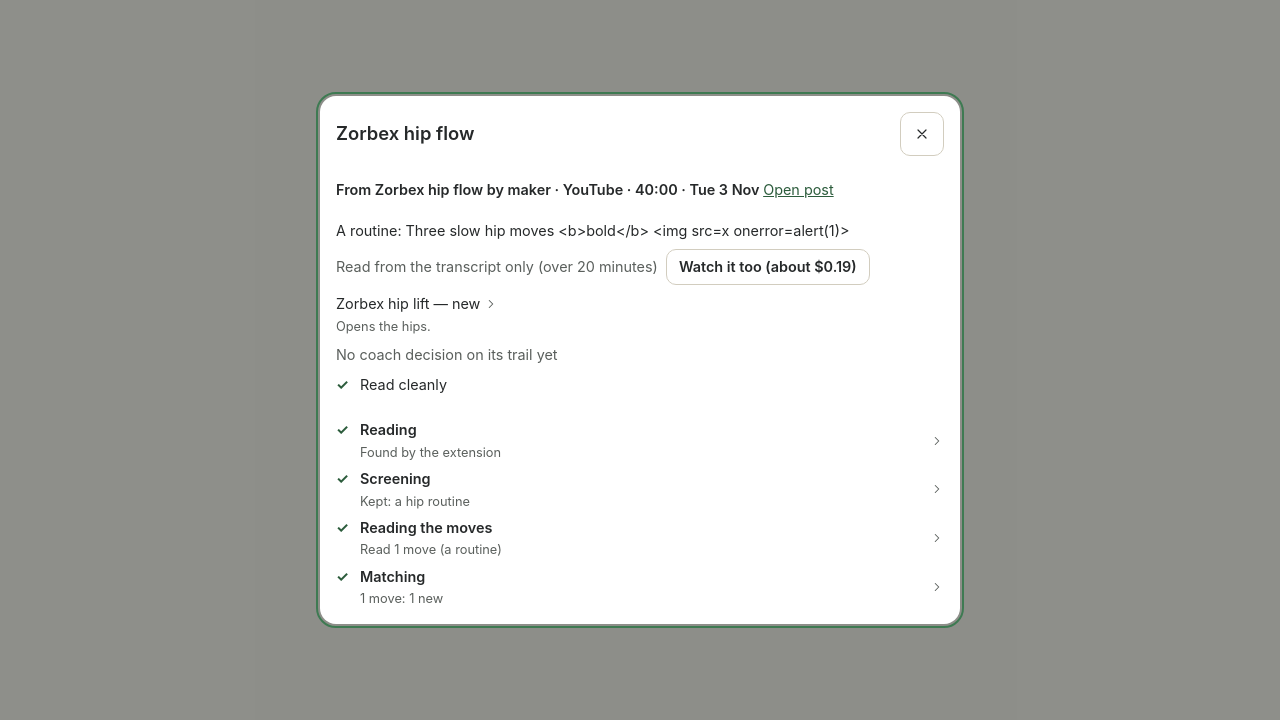
Test: Watch it too that doesn't go through (final audit G19) › no network says so
Step 1. Click the button "Watch it too (about $0.19)" → point(768, 267), box [666, 249, 870, 285]
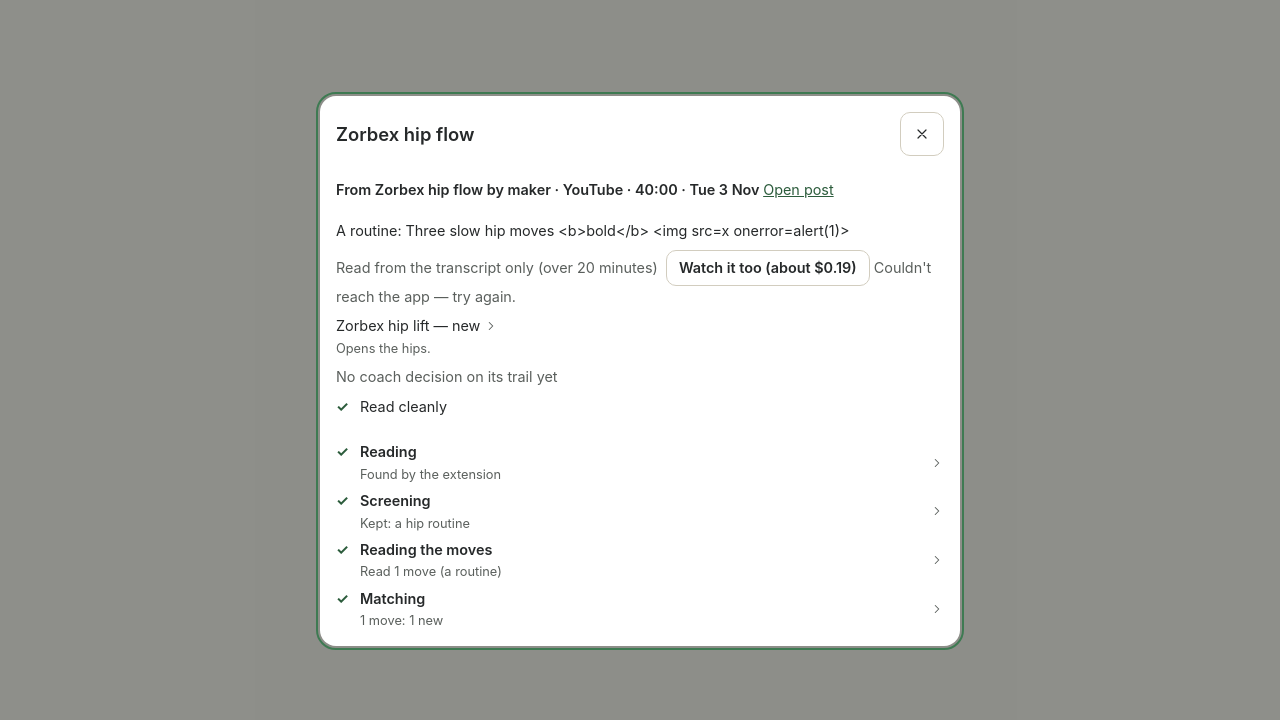
Now the dialog shows "Couldn't reach the app — try again.", box [336, 259, 931, 305]
